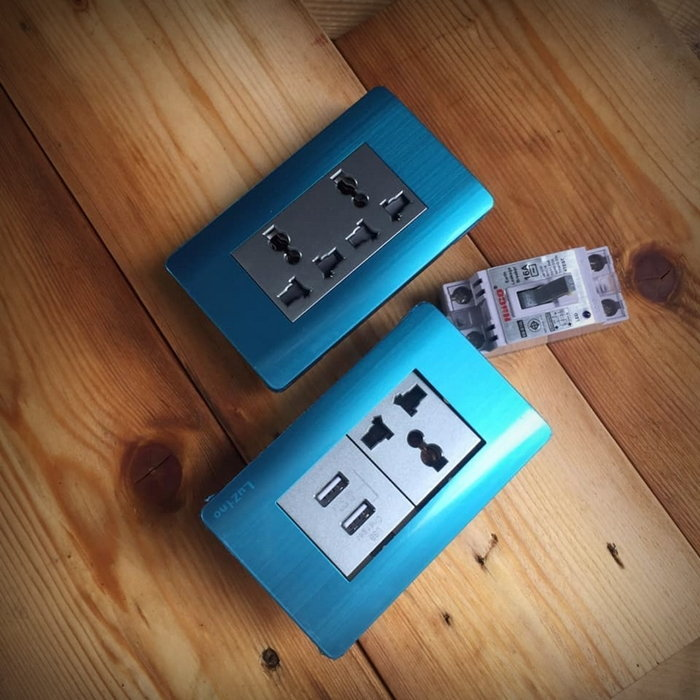Three_eye_plug: (190, 297, 564, 665), (155, 78, 503, 402)
